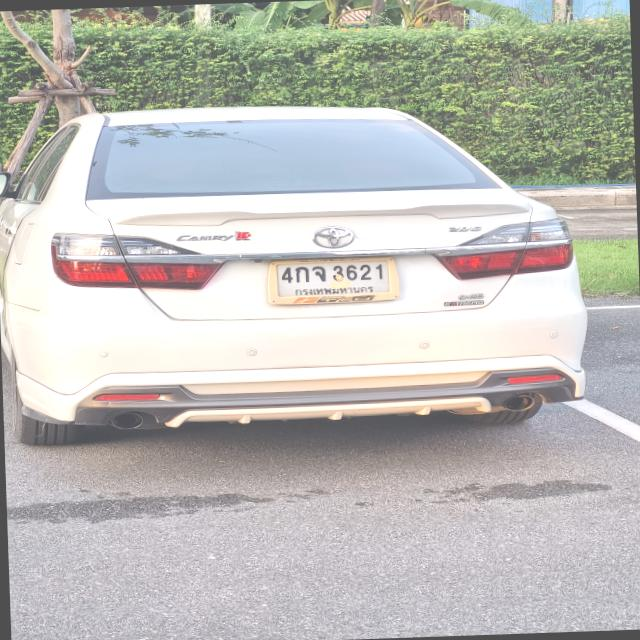license_plate: (264, 248, 404, 306)
